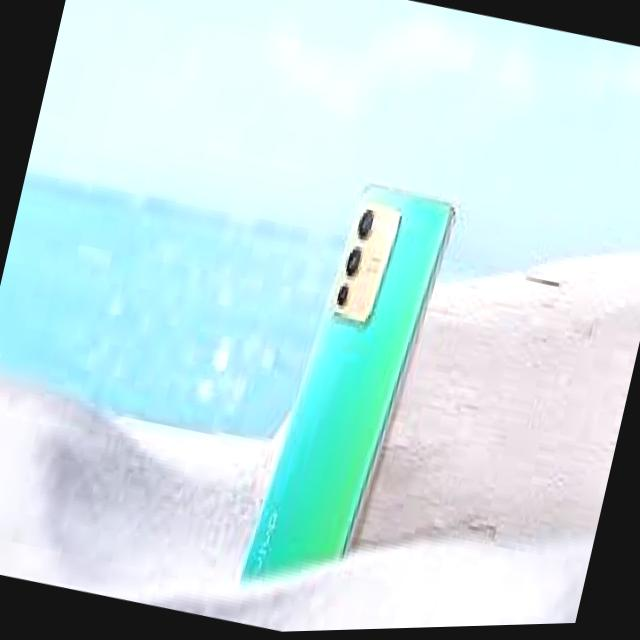Smartphone: (221, 176, 469, 632)
